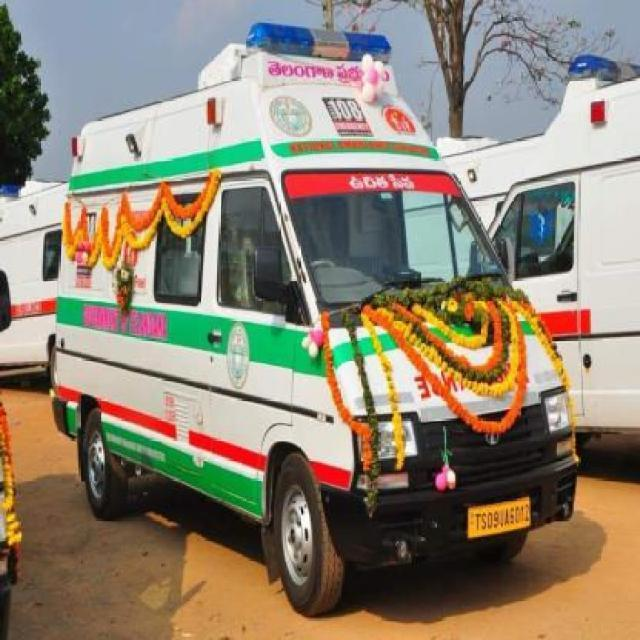Ambulance: (44, 20, 584, 620), (0, 359, 638, 638), (432, 50, 638, 468), (58, 167, 225, 276), (0, 176, 69, 387)
